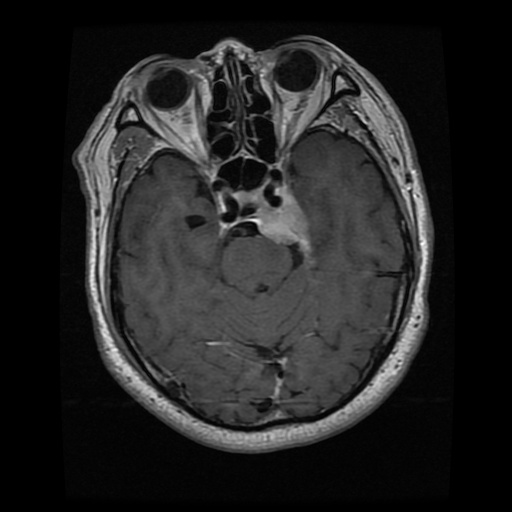meningioma: (255, 194, 311, 260)
